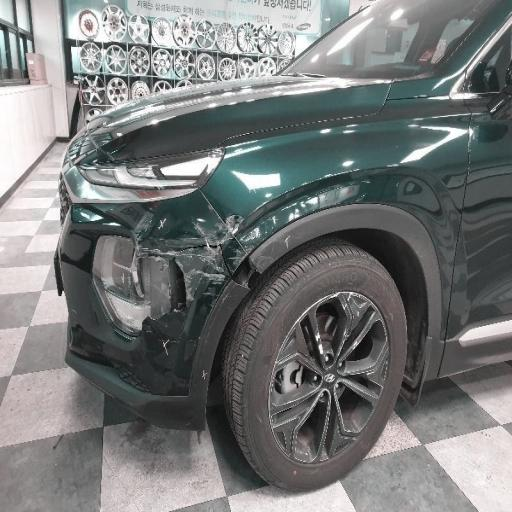broken: (116, 192, 248, 381)
scratch: (426, 181, 512, 325)
